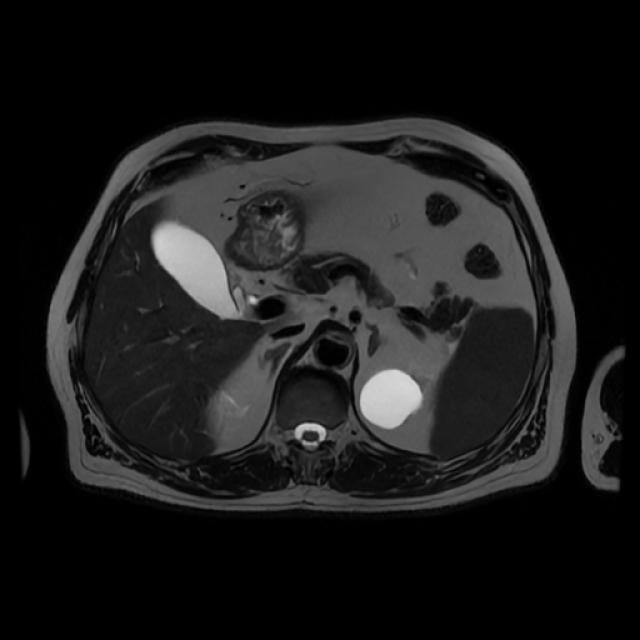sol: (356, 367, 437, 430)
